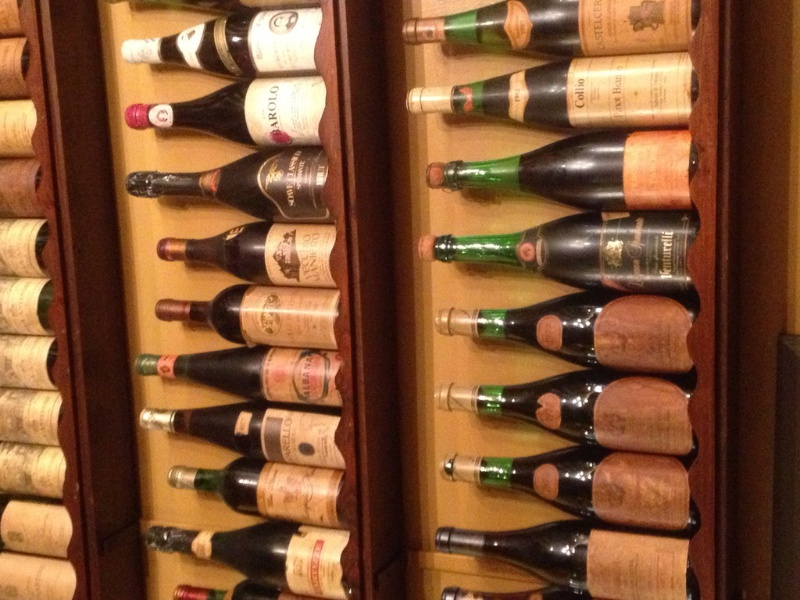wine: (30, 1, 710, 600)
